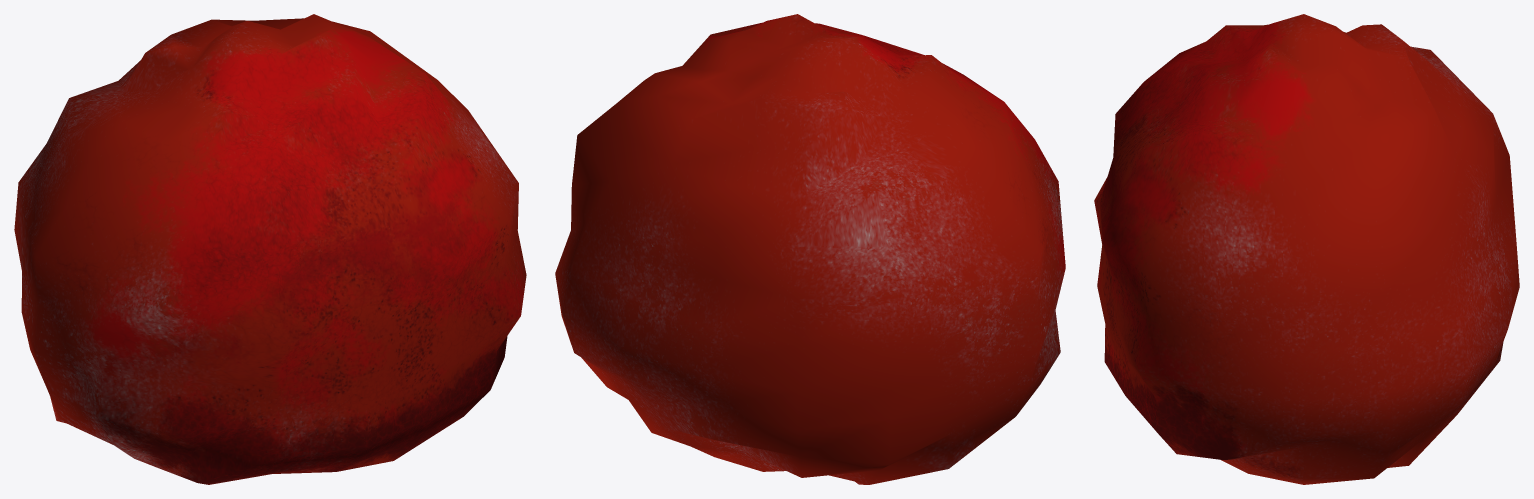
Rendered from ChaosZooTreeLeaf.fbx.
3 renders of one model, left to right at view 1: azimuth 30°, elevation 25°; view 2: azimuth 150°, elevation 25°; view 3: azimuth 270°, elevation 25°, orthographic. The views are drawn at different scales.
Visible parts, largest first — view 1: pCube37; view 2: pCube37; view 3: pCube37.
Part boxes in pixels (x1,y1,x2,y2): pCube37: (14,14,526,484); pCube37: (555,14,1065,484); pCube37: (1094,14,1519,484).
Size of the model in its own units: 11.81 by 9.95 by 9.58.
